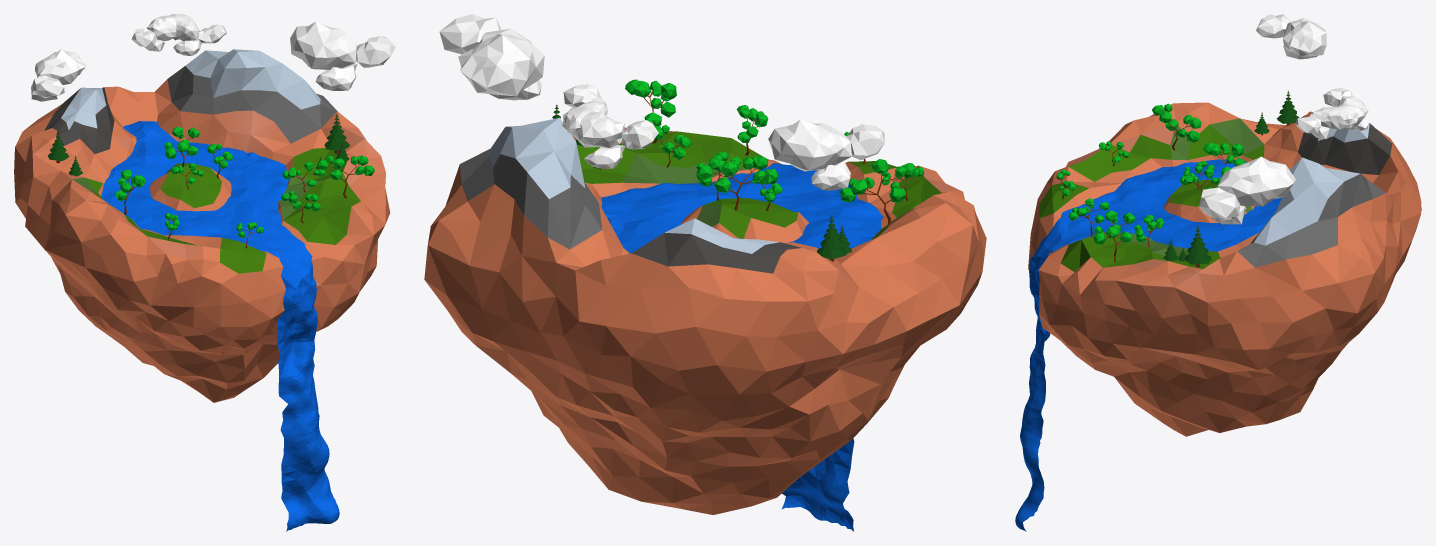
The model's file is floating_island_low_poly.dae.
3 renders of one model, left to right at view 1: azimuth 30°, elevation 25°; view 2: azimuth 150°, elevation 25°; view 3: azimuth 270°, elevation 25°, orthographic. The views are drawn at different scales.
Parts seen in each view (by area): view 1: island, water, Icosphere.001, Icosphere.002, Icosphere, tree.007, tree.001, tree.008, pine-tree, tree.003; view 2: island, water, Icosphere.001, Icosphere, Icosphere.002, tree.001, tree.008, tree.007, tree.003, pine-tree.004; view 3: island, water, Icosphere.001, Icosphere.002, Icosphere, tree.008, tree.007, tree.001, pine-tree, tree.003.
Boxes of the visible parts, <box> form: island: <box>14,49,390,402</box>; water: <box>101,121,339,531</box>; Icosphere.001: <box>290,21,395,90</box>; Icosphere.002: <box>131,14,226,55</box>; Icosphere: <box>31,49,85,101</box>; tree.007: <box>317,155,374,198</box>; tree.001: <box>164,126,200,167</box>; tree.008: <box>114,170,145,214</box>; pine-tree: <box>324,114,349,153</box>; tree.003: <box>281,190,320,223</box>; island: <box>424,117,986,514</box>; water: <box>601,163,883,531</box>; Icosphere.001: <box>439,14,544,100</box>; Icosphere: <box>768,119,884,190</box>; Icosphere.002: <box>562,84,658,168</box>; tree.001: <box>697,155,778,210</box>; tree.008: <box>840,159,915,224</box>; tree.007: <box>625,79,676,143</box>; tree.003: <box>736,105,768,155</box>; pine-tree.004: <box>817,215,846,261</box>; island: <box>1028,102,1421,436</box>; water: <box>1015,159,1281,531</box>; Icosphere.001: <box>1199,156,1295,224</box>; Icosphere.002: <box>1295,87,1368,139</box>; Icosphere: <box>1256,14,1326,59</box>; tree.008: <box>1152,103,1201,150</box>; tree.007: <box>1093,210,1135,261</box>; tree.001: <box>1203,142,1245,175</box>; pine-tree: <box>1184,225,1211,267</box>; tree.003: <box>1068,198,1109,236</box>.
Bounding box in the file's own units: 22.2 × 20.5 × 24.37.
